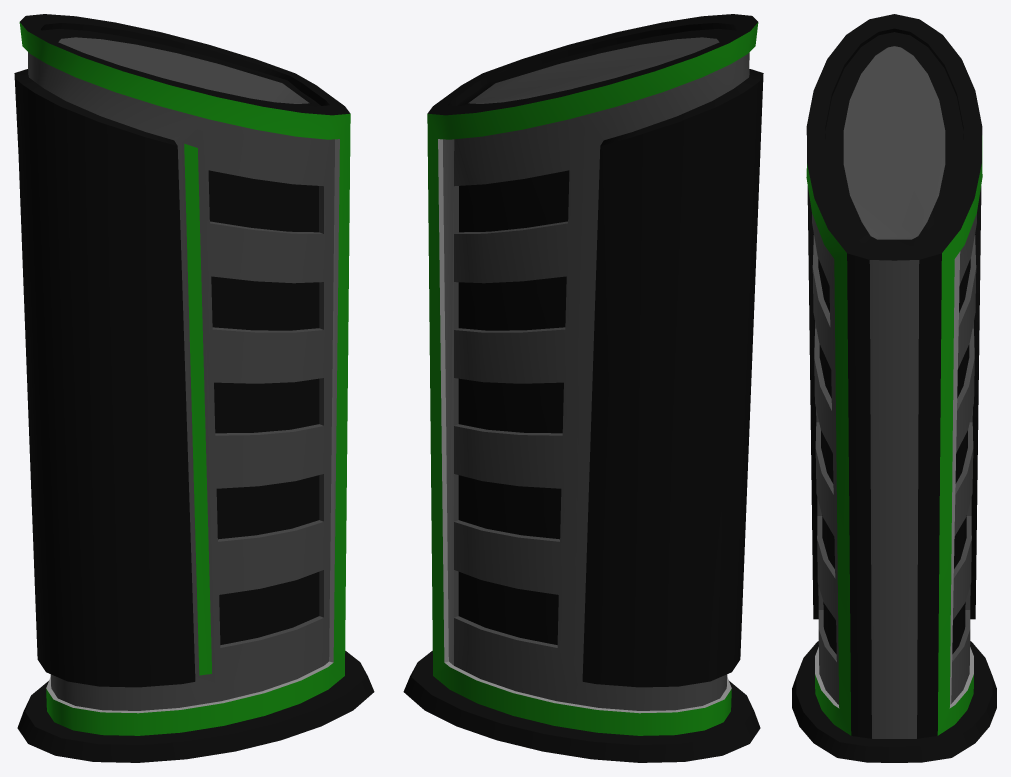
File: Building_1.FBX
3 renders of one model, left to right at view 1: azimuth 30°, elevation 25°; view 2: azimuth 150°, elevation 25°; view 3: azimuth 270°, elevation 25°, orthographic. The views are drawn at different scales.
Visible parts, largest first — view 1: Building 1; view 2: Building 1; view 3: Building 1.
Boxes of the visible parts, x1,y1,x2,y2 form: Building 1: (14,14,374,762); Building 1: (403,14,763,762); Building 1: (792,14,996,762).
Bounding box in the file's own units: 64.16 × 40.15 × 132.
